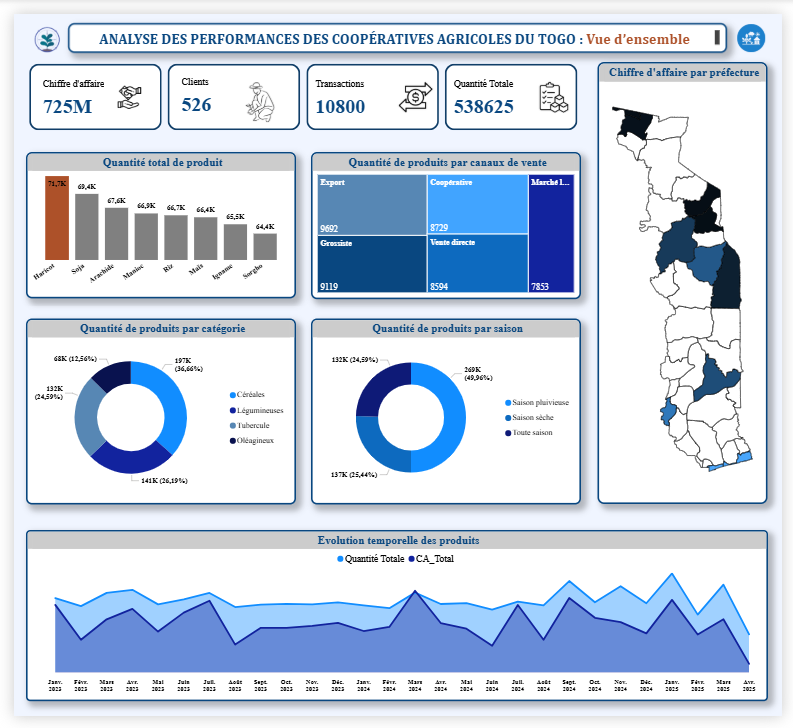

What the dashboard file says about the page in this screenshot:
{"tool":"powerbi","page":{"name":"Vue d’ensemble","canvas":[1280,1170],"ordinal":0},"visuals":[{"type":"textbox","box":[90,15,1098.3,50],"z":0},{"type":"cardVisual","fields":{"Data":["_Mesures.CA_Total","_Mesures.Clients_Actifs","_Mesures.Nbre_ de_produit","_Mesures.qte_Total"]},"box":[20.5,78.1,926,121.9],"z":1000},{"type":"shapeMap","title":"Chiffre d''affaire par préfecture","fields":{"Category":["prefectures.prefecture"],"Value":["_Mesures.CA_Total"]},"box":[973.3,80,283.3,736.7],"z":2000},{"type":"columnChart","title":"Quantité total de produit","fields":{"Category":["ventes_cooperatives.produit"],"Y":["_Mesures.qte_Total"]},"box":[20,230,450,244.3],"z":3000},{"type":"treemap","title":"Quantité de produits par canaux de vente","fields":{"Values":["_Mesures.Quantité Total"],"Group":["ventes_cooperatives.canal_vente"]},"box":[495,230,450,245],"z":4000},{"type":"lineChart","title":"Evolution temporelle des produits","fields":{"Category":["calendrier.Month & Year"],"Y2":["_Mesures.CA_Total"],"Y":["_Mesures.Quantité Totale"]},"box":[20,860,1236.7,285],"z":5000},{"type":"image","box":[0,0,110,83.3],"z":7000},{"type":"image","box":[1200,8.3,56.7,65],"z":8000},{"type":"barChart","title":"Quantité de produits par catégorie","fields":{"Category":["catégorie_produits.categorie"],"Y":["_Mesures.Quantité Totale"]},"box":[20,507.5,450,310],"z":9000},{"type":"donutChart","title":"Quantité de produits par saison","fields":{"Y":["_Mesures.Quantité Totale"],"Category":["saisons.saisons"]},"box":[495,507.5,450,310],"z":10000}]}

Visuals, with their boxes in screenshot pixels (x1, y1, x2, y2), scaled from the page's 1280x1170 canvas onto the 793x728 screenshot:
textbox: {"left": 56, "top": 9, "right": 736, "bottom": 40}
cardVisual - _Mesures.CA_Total x _Mesures.Clients_Actifs: {"left": 13, "top": 49, "right": 586, "bottom": 124}
"Chiffre d''affaire par préfecture" shapeMap: {"left": 603, "top": 50, "right": 779, "bottom": 508}
"Quantité total de produit" columnChart: {"left": 12, "top": 143, "right": 291, "bottom": 295}
"Quantité de produits par canaux de vente" treemap: {"left": 307, "top": 143, "right": 585, "bottom": 296}
"Evolution temporelle des produits" lineChart: {"left": 12, "top": 535, "right": 779, "bottom": 712}
image: {"left": 0, "top": 0, "right": 68, "bottom": 52}
image: {"left": 743, "top": 5, "right": 779, "bottom": 46}
"Quantité de produits par catégorie" barChart: {"left": 12, "top": 316, "right": 291, "bottom": 509}
"Quantité de produits par saison" donutChart: {"left": 307, "top": 316, "right": 585, "bottom": 509}
